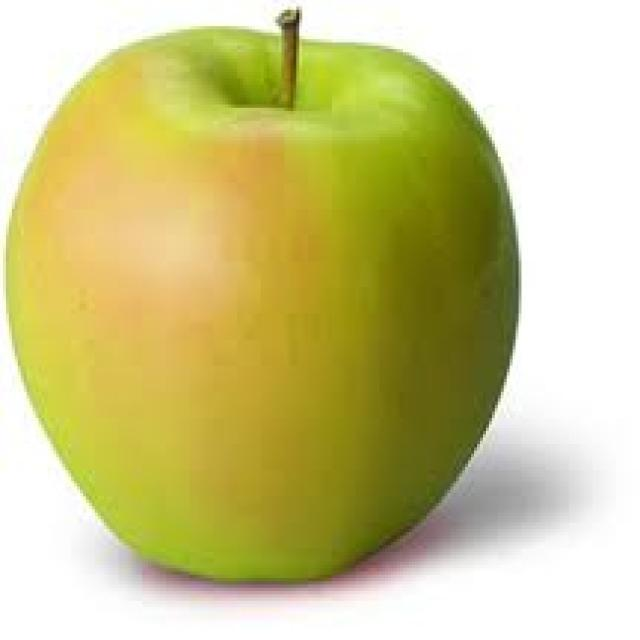Apple: (3, 16, 545, 608)
